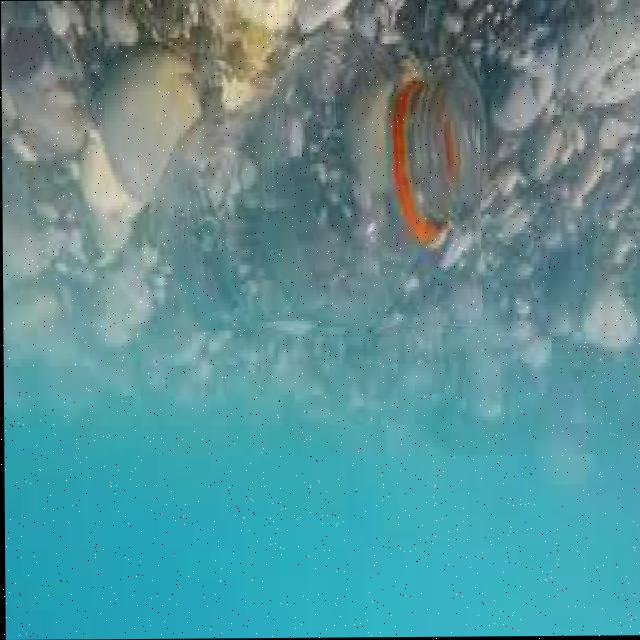plasticbottle: (176, 58, 480, 328)
